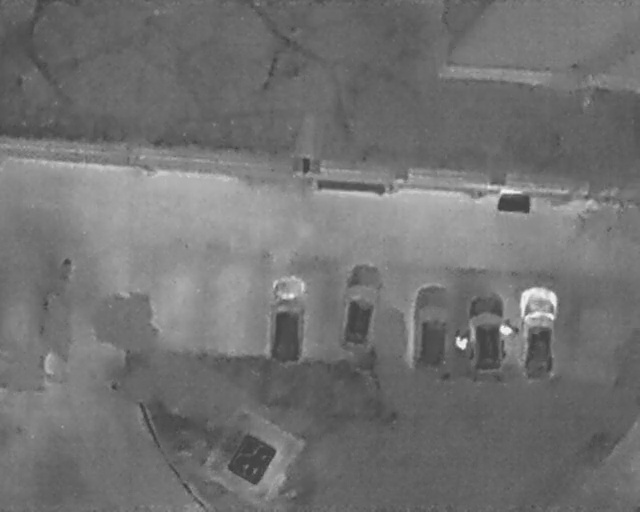Car: (335, 260, 386, 353), (266, 272, 310, 365), (410, 281, 454, 371), (517, 286, 559, 380), (466, 292, 504, 380)
Person: (499, 322, 514, 340), (454, 335, 468, 351)
